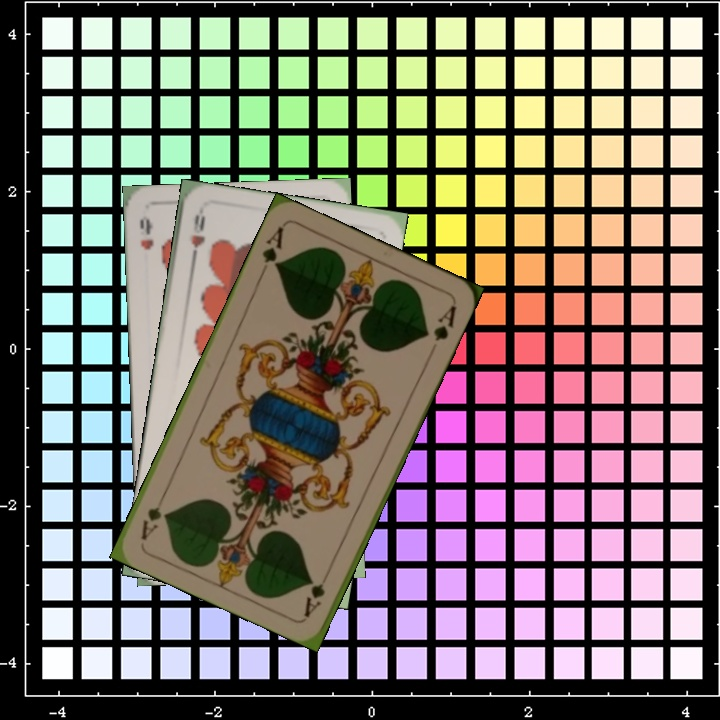GA: (300, 563, 335, 619), (258, 222, 286, 271)
H9: (186, 210, 208, 266), (135, 212, 156, 252)
